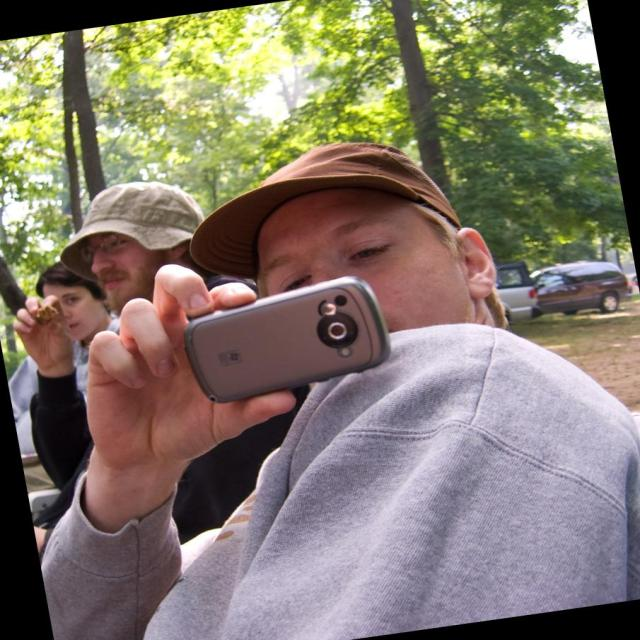phone: (182, 276, 388, 400)
